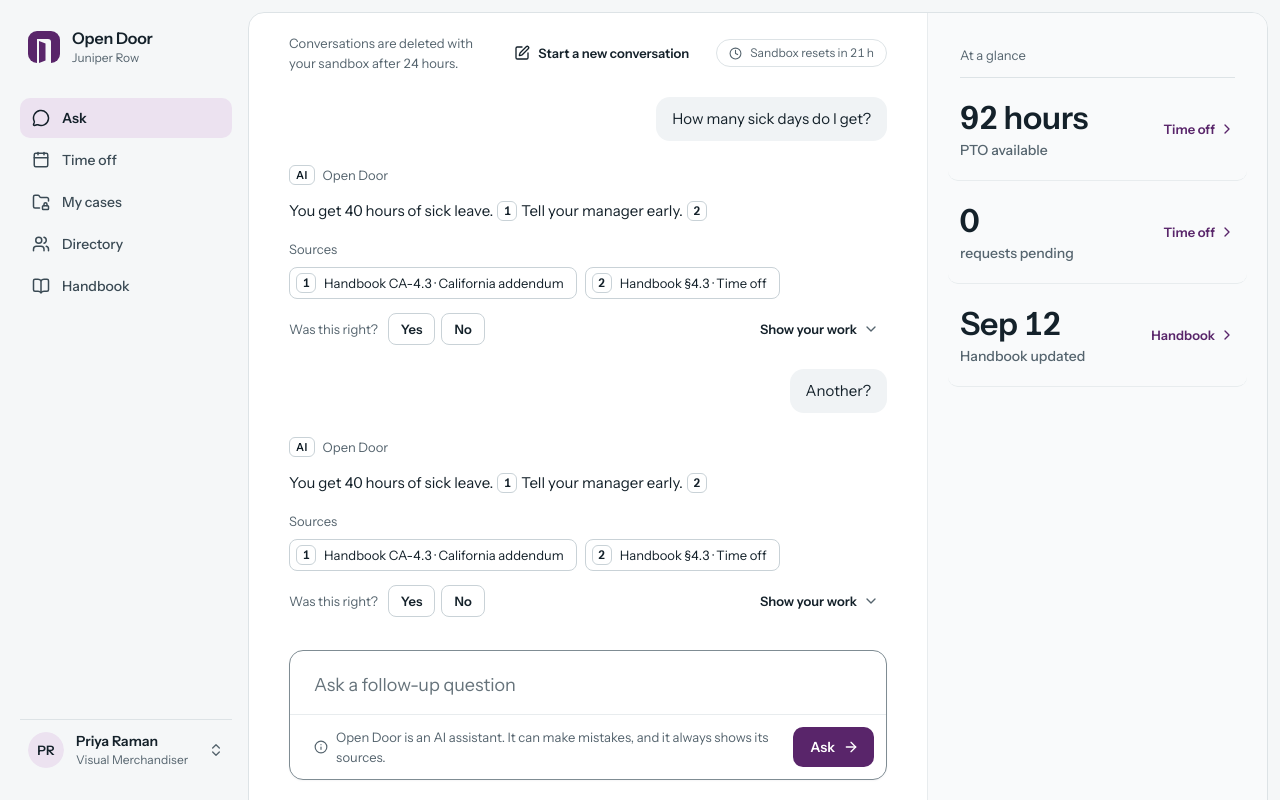
Test case: feedback › keeps each turn’s feedback to itself
The image size is (1280, 800).
Click the 1st button "Yes".
click(412, 329)  # box [388, 313, 436, 345]
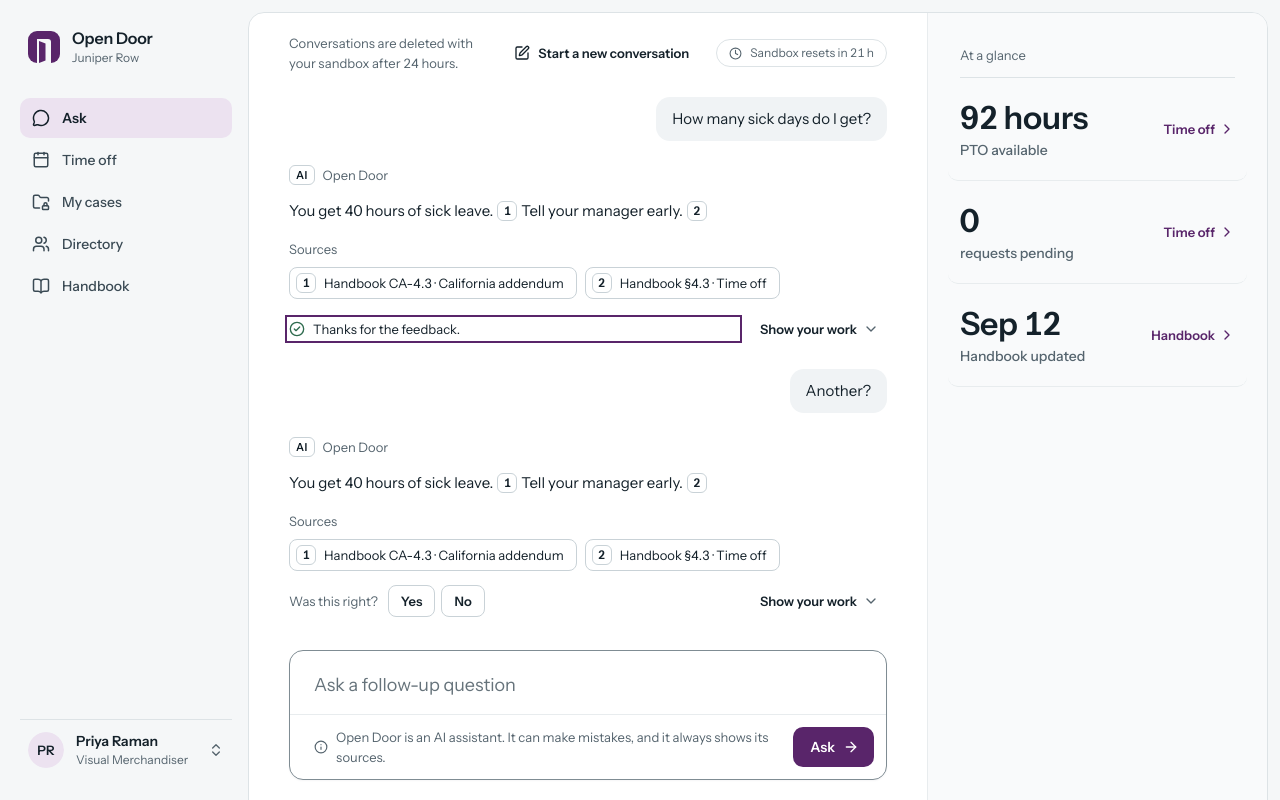
Expected: the number of buttons "Yes" is 1, [388, 585, 436, 617]
Result: the text "Thanks for the feedback." is shown at [289, 321, 460, 337]
